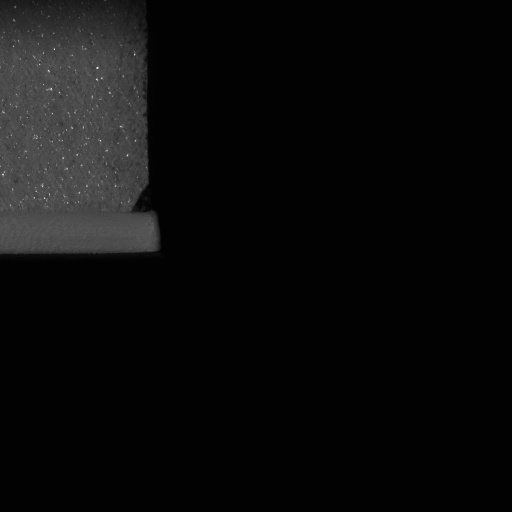bengque: (133, 185, 158, 218)
